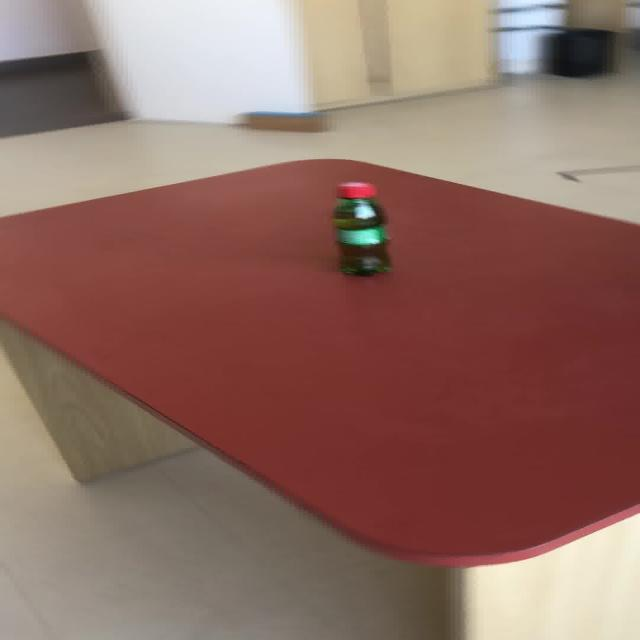guarana: (330, 180, 392, 276)
